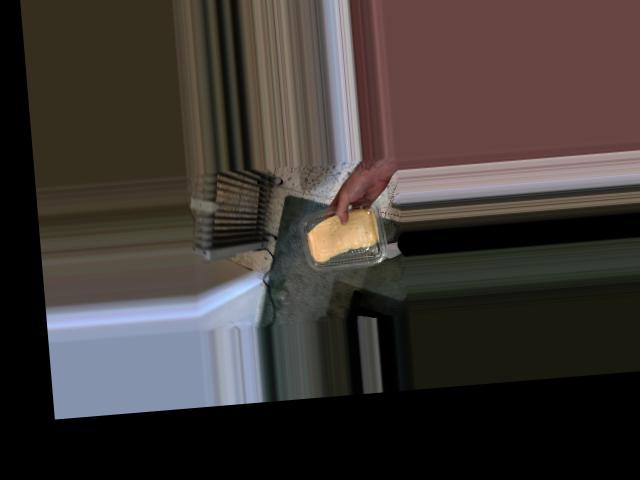cheese: (295, 200, 387, 271)
